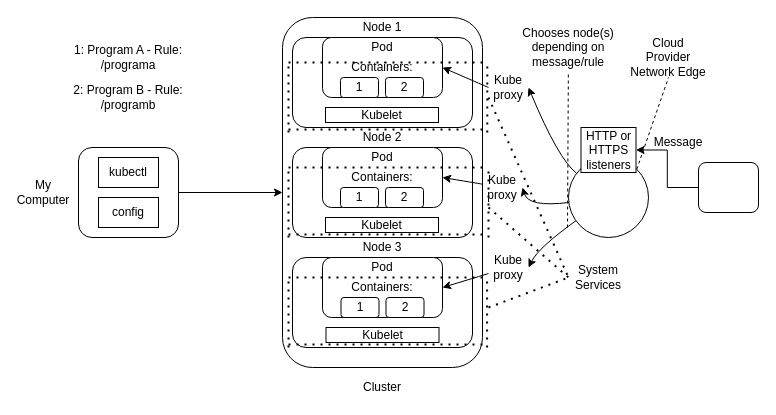
Image size: 776x415. Some labels were removed from this diagram. Each missing label, with the centre of its shape:
End User: (728,187)
Load balancer: (608,197)
